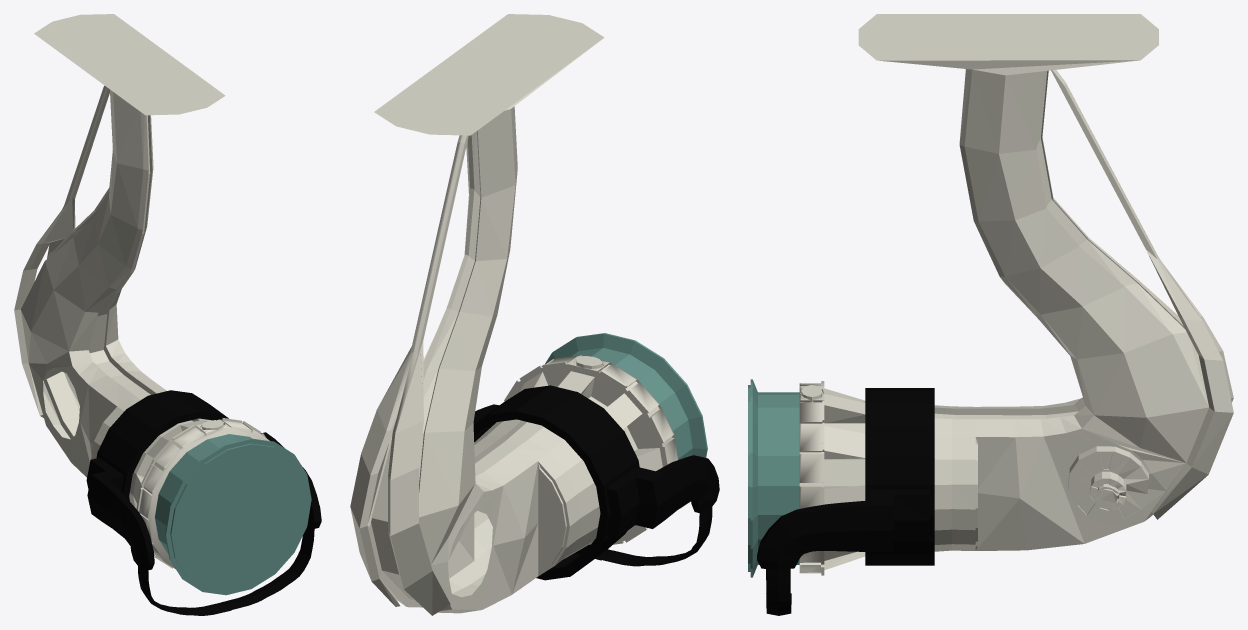
The model's file is spinning_reel.fbx.
The picture shows the model from 3 angles, left to right: view 1: azimuth 30°, elevation 25°; view 2: azimuth 150°, elevation 25°; view 3: azimuth 270°, elevation 25°; orthographic projection. The views are drawn at different scales.
Parts seen in each view (by area): view 1: reel_body, reel_top, reel_out; view 2: reel_body, reel_out, reel_top; view 3: reel_body, reel_out, reel_top.
Part boxes in pixels (left/top/right/bottom): reel_body: left=14, top=14, right=269, bottom=569; reel_top: left=155, top=434, right=311, bottom=595; reel_out: left=86, top=390, right=321, bottom=615; reel_body: left=350, top=14, right=678, bottom=615; reel_out: left=473, top=385, right=719, bottom=580; reel_top: left=545, top=333, right=707, bottom=459; reel_body: left=799, top=14, right=1233, bottom=575; reel_out: left=757, top=388, right=934, bottom=615; reel_top: left=748, top=379, right=799, bottom=577.
Bounding box in the file's own units: 20.16 × 49.88 × 39.24.
